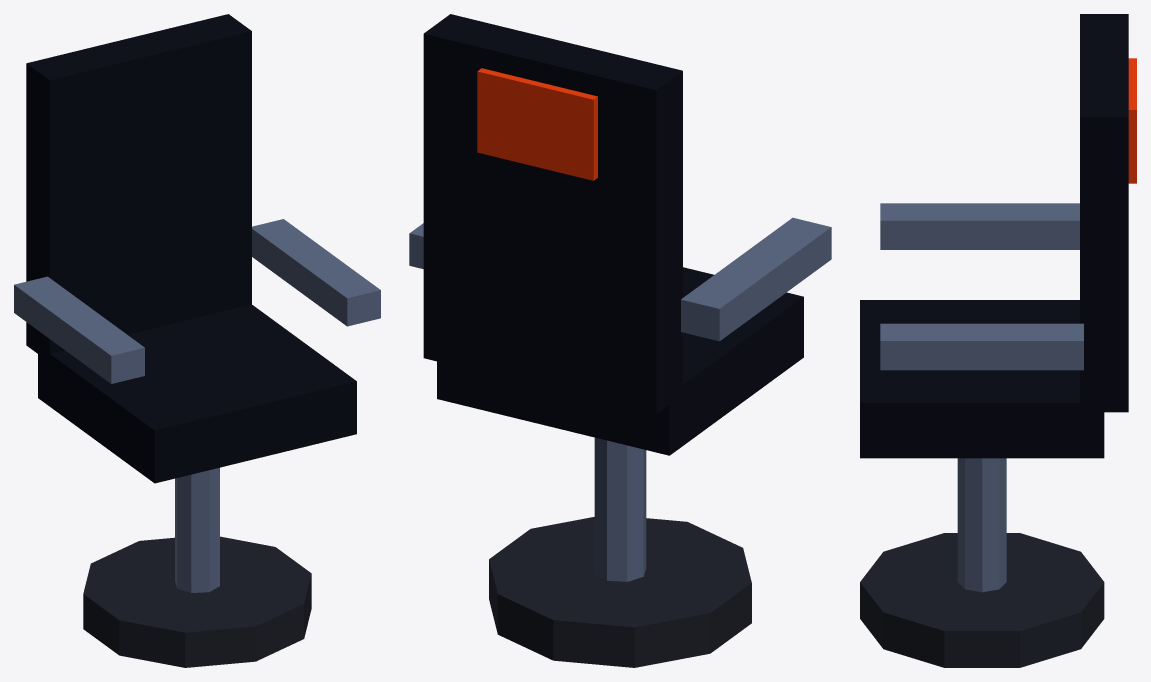
Rendered from captain_chair.obj.
3 views of the same model, side by side, from view 1: azimuth 30°, elevation 25°; view 2: azimuth 150°, elevation 25°; view 3: azimuth 270°, elevation 25° (orthographic). The views are drawn at different scales.
Parts seen in each view (by area): view 1: captain_chair; view 2: captain_chair; view 3: captain_chair.
Part boxes in pixels (x1,y1,x2,y2): captain_chair: (14,14,380,667); captain_chair: (409,14,831,667); captain_chair: (860,14,1136,667).
Bounding box in the file's own units: 0.8 × 1.5 × 0.68.
